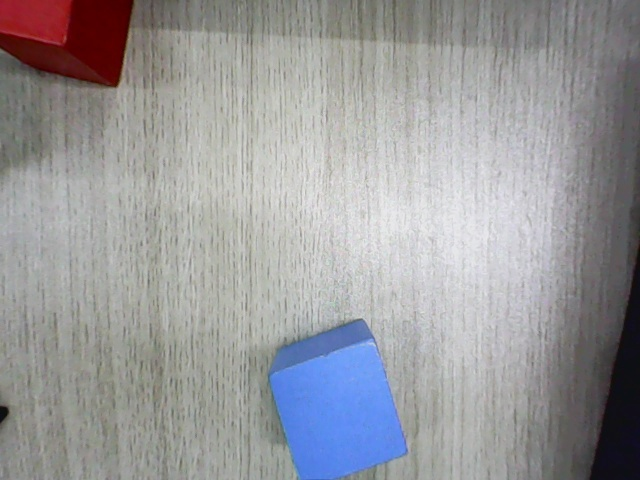upside of big cube: (267, 340, 409, 479), (0, 0, 72, 44)
